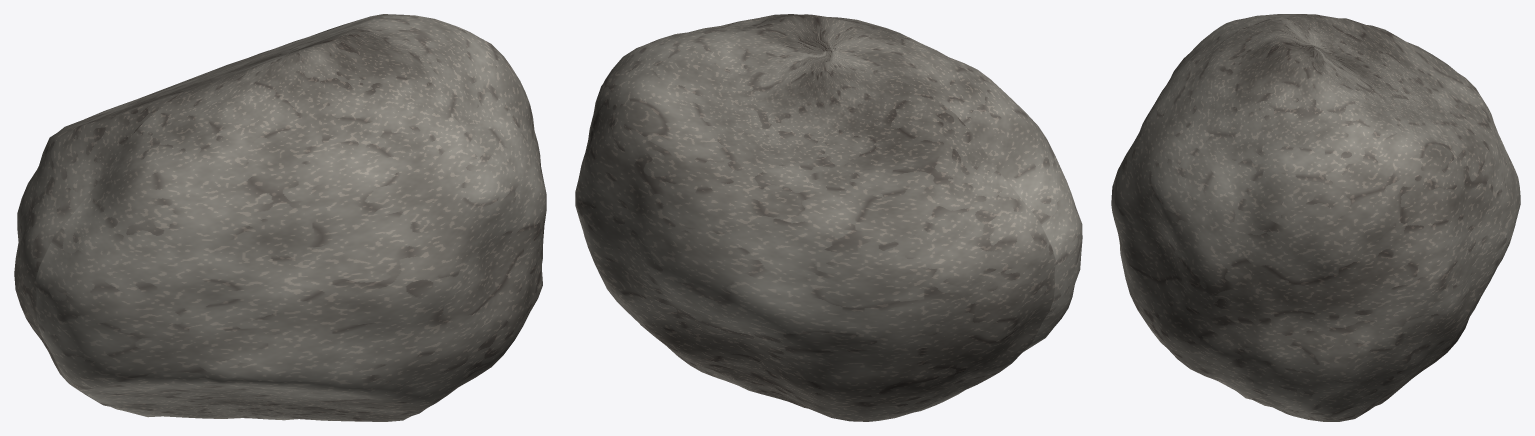
File: PZ_R05_Rounded_River_Boulder_Granite.glb
3 renders of one model, left to right at view 1: azimuth 30°, elevation 25°; view 2: azimuth 150°, elevation 25°; view 3: azimuth 270°, elevation 25°, orthographic. The views are drawn at different scales.
Parts seen in each view (by area): view 1: RENDER_R05_Rounded_River_Boulder_Granite; view 2: RENDER_R05_Rounded_River_Boulder_Granite; view 3: RENDER_R05_Rounded_River_Boulder_Granite.
Boxes of the visible parts, x1,y1,x2,y2 form: RENDER_R05_Rounded_River_Boulder_Granite: [14, 14, 546, 421]; RENDER_R05_Rounded_River_Boulder_Granite: [575, 14, 1082, 421]; RENDER_R05_Rounded_River_Boulder_Granite: [1111, 14, 1520, 421].
Bounding box in the file's own units: 1.35 × 0.96 × 1.09.
1 material, 1 textured.
